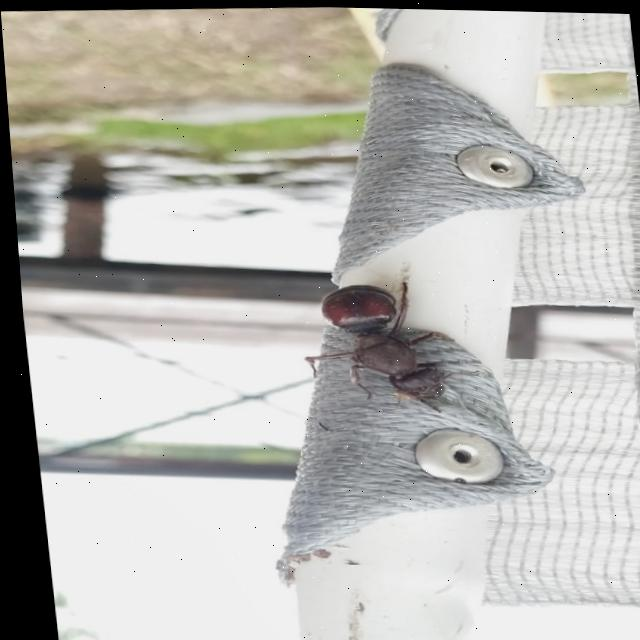Alive-Female-Dealate: (290, 276, 477, 417)
